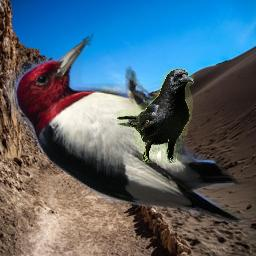Crow: (117, 68, 194, 163)
Woodpecker: (3, 33, 256, 225)
